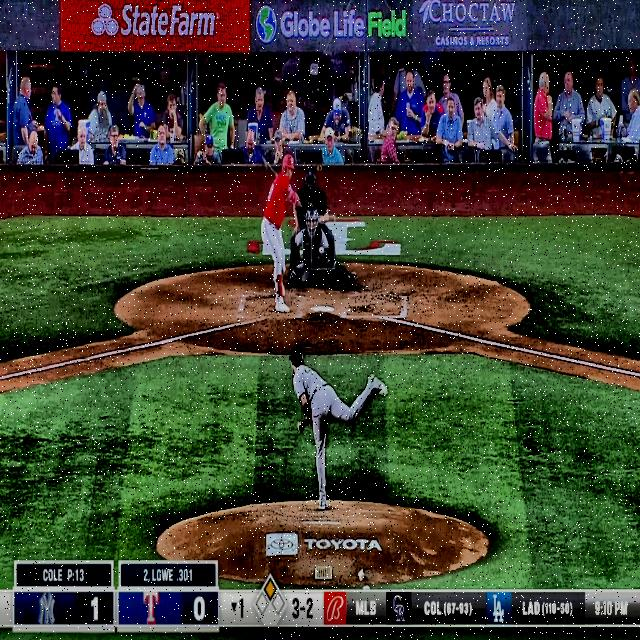baseball: (319, 247, 324, 254)
